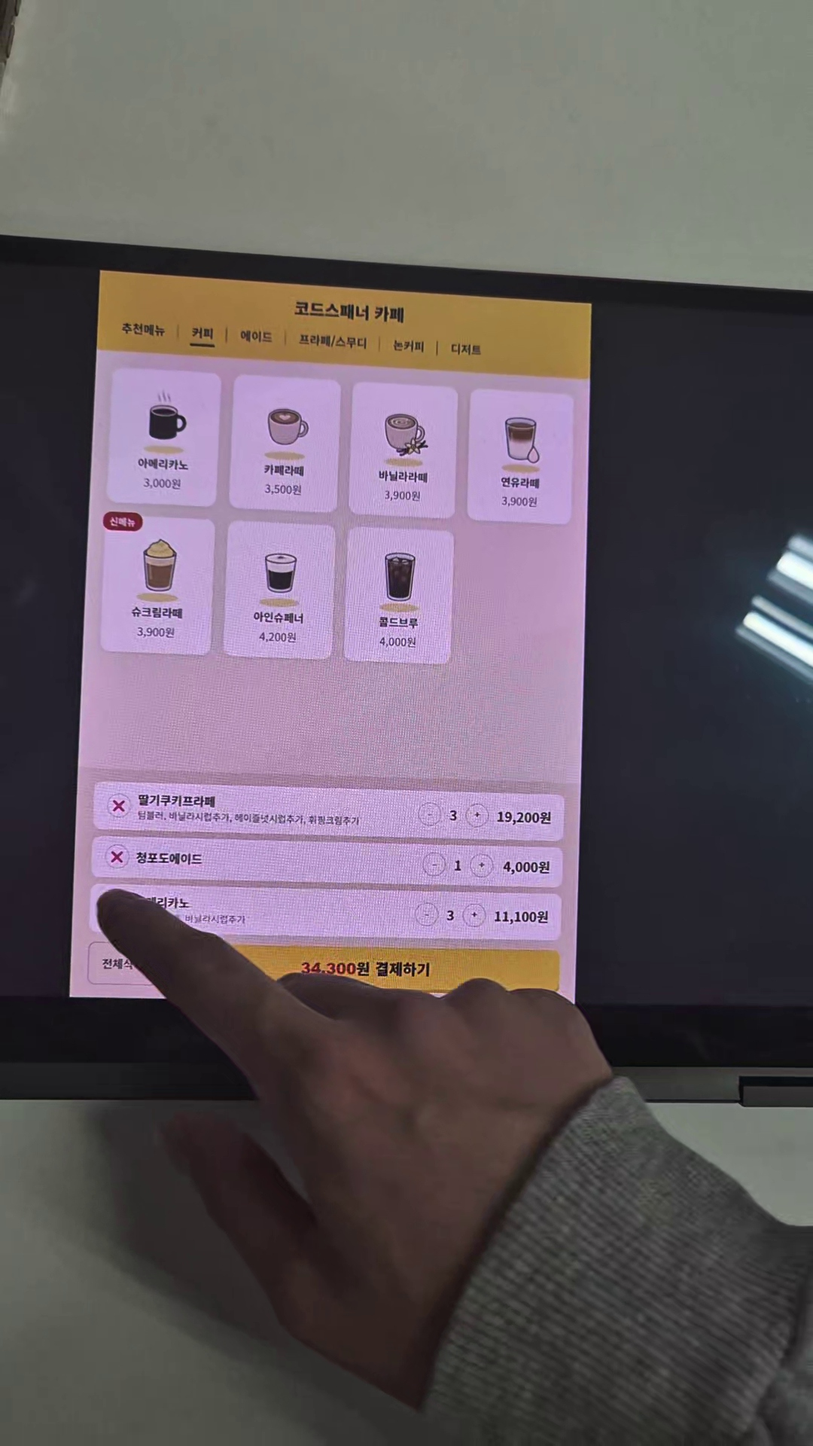action_button: (178, 943, 560, 994), (88, 942, 157, 984)
cart_item: (93, 782, 565, 842), (90, 884, 562, 941), (91, 836, 563, 887)
category_tab: (297, 333, 368, 351), (120, 321, 167, 339), (392, 338, 425, 355), (239, 329, 273, 345), (449, 342, 482, 357), (190, 326, 214, 341)
menu_back: (100, 511, 215, 656), (106, 368, 222, 507), (223, 521, 336, 660), (230, 375, 341, 514), (343, 528, 454, 664), (349, 382, 457, 519), (467, 389, 573, 526)
menu_name: (130, 605, 184, 621), (252, 609, 306, 625), (136, 456, 189, 472), (377, 469, 429, 485), (377, 614, 419, 631), (262, 462, 305, 478), (499, 476, 541, 490)
menu_price: (141, 476, 182, 491), (264, 482, 302, 498), (134, 625, 176, 639), (383, 488, 422, 503), (500, 494, 539, 509), (257, 630, 297, 644), (378, 635, 418, 649)
